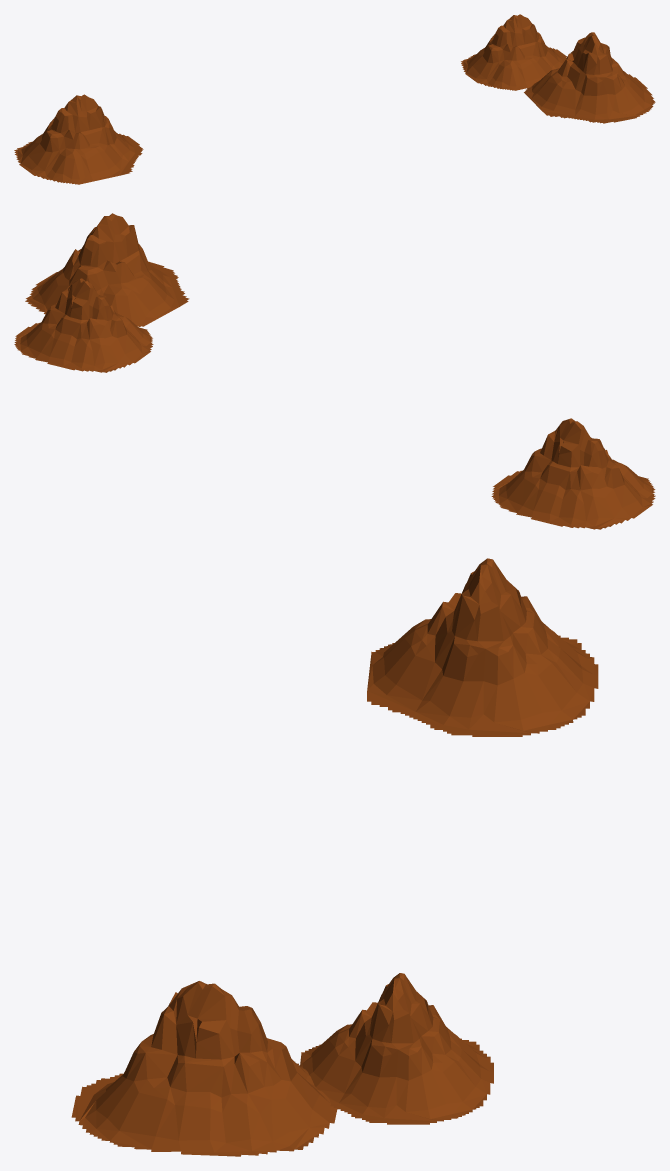
File: Mountain_1_LOD_Medium.glb
3 views of the same model, one above another, from view 1: azimuth 30°, elevation 25°; view 2: azimuth 150°, elevation 25°; view 3: azimuth 270°, elevation 25° (orthographic). The views are drawn at different scales.
Parts seen in each view (by area): view 1: Mountain_1_LOD_Medium.003; view 2: Mountain_1_LOD_Medium.003; view 3: Mountain_1_LOD_Medium.003.
Boxes of the visible parts, <box> form: Mountain_1_LOD_Medium.003: <box>14,14,655,184</box>; Mountain_1_LOD_Medium.003: <box>14,213,655,529</box>; Mountain_1_LOD_Medium.003: <box>71,558,598,1156</box>.
Bounding box in the file's own units: 529 × 60.85 × 220.
